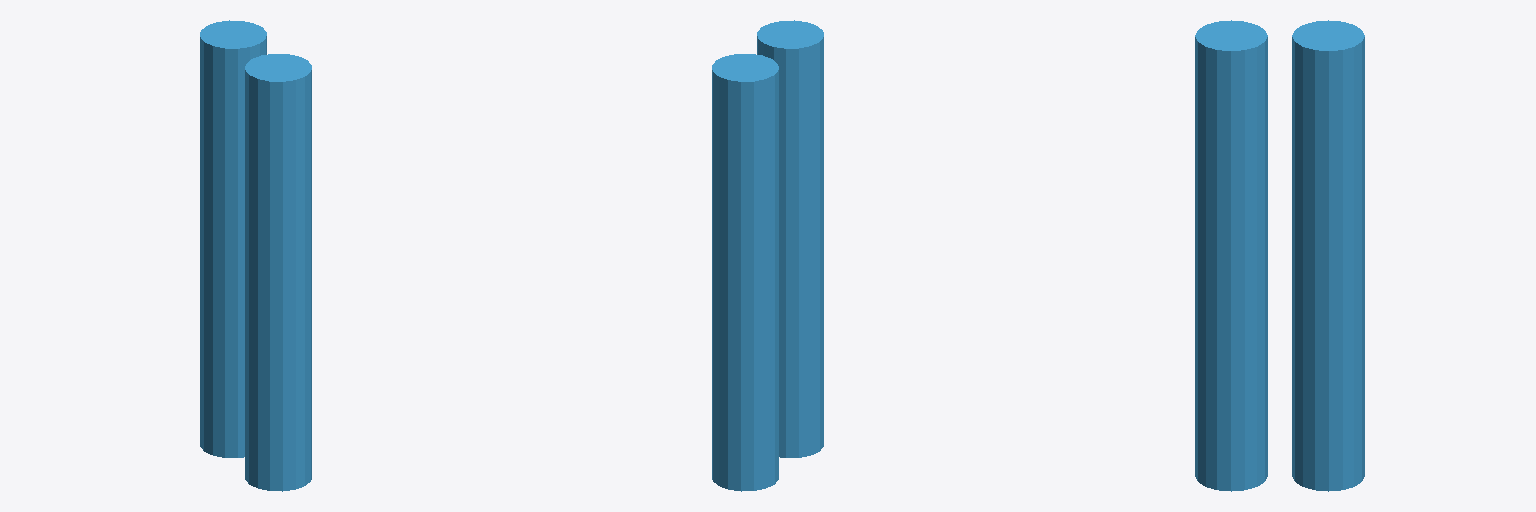
URDF robot description (person):
<?xml version="1.0"?>

<robot name="person">

  <link name="base_footprint"/>

  <link name="base_link">
    <collision>
      <origin xyz="0 0 0" rpy="0 0 0"/>
      <geometry>
        <mesh filename="package://iri_objects_description/meshes/legs.stl"/>
      </geometry>
    </collision>

    <visual>
      <origin xyz="0 0 0" rpy="0 0 0"/>
      <geometry>
        <mesh filename="package://iri_objects_description/meshes/legs.stl"/>
      </geometry>
      <material name="grey"/>
    </visual>

    <inertial>
      <mass value="80.0" />
      <origin xyz="0 0 0" />
      <inertia 
        ixx="1.0" ixy="0.0" ixz="0.0"
        iyy="1.0" iyz="0.0" 
        izz="1.0" />
    </inertial>
  </link>
  
  <joint name="base_footprint_to_base_link" type="fixed">
    <parent link="base_footprint"/>
    <child link="base_link"/>
    <origin xyz="0 0 0.0"/>
  </joint>
  
  <link name="head">
  </link>
  
  <joint name="base_link_to_head" type="fixed">
    <parent link="base_link"/>
    <child link="head"/>
    <origin xyz="0 0 1.6"/>
  </joint>

</robot>

--- What the picture shows (computed from the rendered views, not written in the file) ---
The picture shows the robot from 3 angles, left to right: view 1: azimuth 30°, elevation 25°; view 2: azimuth 150°, elevation 25°; view 3: azimuth 270°, elevation 25°; orthographic projection.
Robot: person — 3 links, 2 joints (2 fixed); root link base_footprint; default pose: every joint at zero.
Links seen in each view (by area): view 1: base_link; view 2: base_link; view 3: base_link.
Link boxes in pixels (<box>): base_link: <box>200,20,311,491</box>; base_link: <box>712,20,823,491</box>; base_link: <box>1195,20,1364,491</box>.
Size in the robot's own frame: 0.15 by 0.35 by 1 metres.
Meshes: 1 distinct files referenced, 1 mesh visuals loaded (1 binary STL).